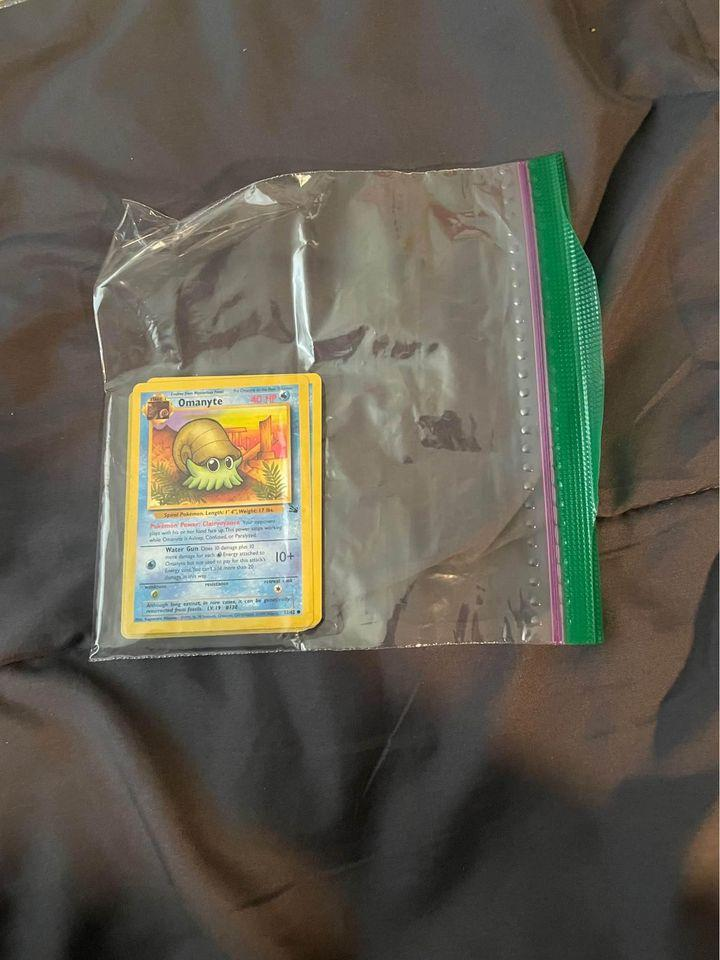card: (123, 375, 316, 634)
name: (177, 397, 227, 407)
